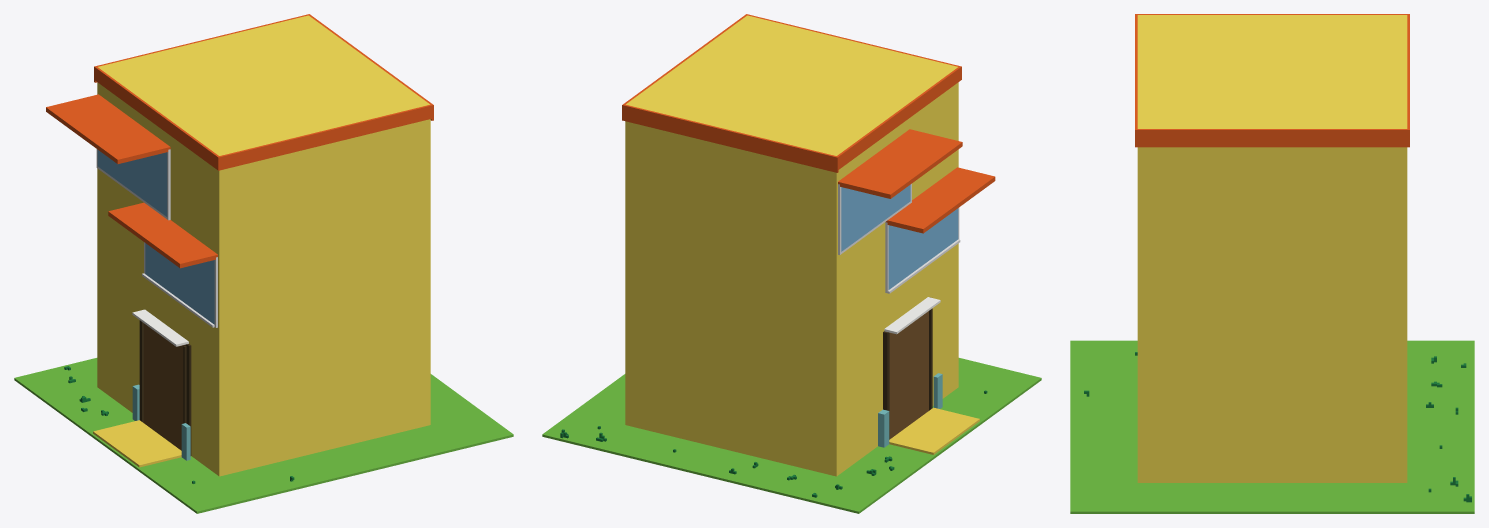
Rendered from Building 1.obj.
The picture shows the model from 3 angles, left to right: view 1: azimuth 30°, elevation 25°; view 2: azimuth 150°, elevation 25°; view 3: azimuth 270°, elevation 25°; orthographic projection. The views are drawn at different scales.
Size of the model in its own units: 15 by 14.6 by 15.
1 material, 1 textured.
